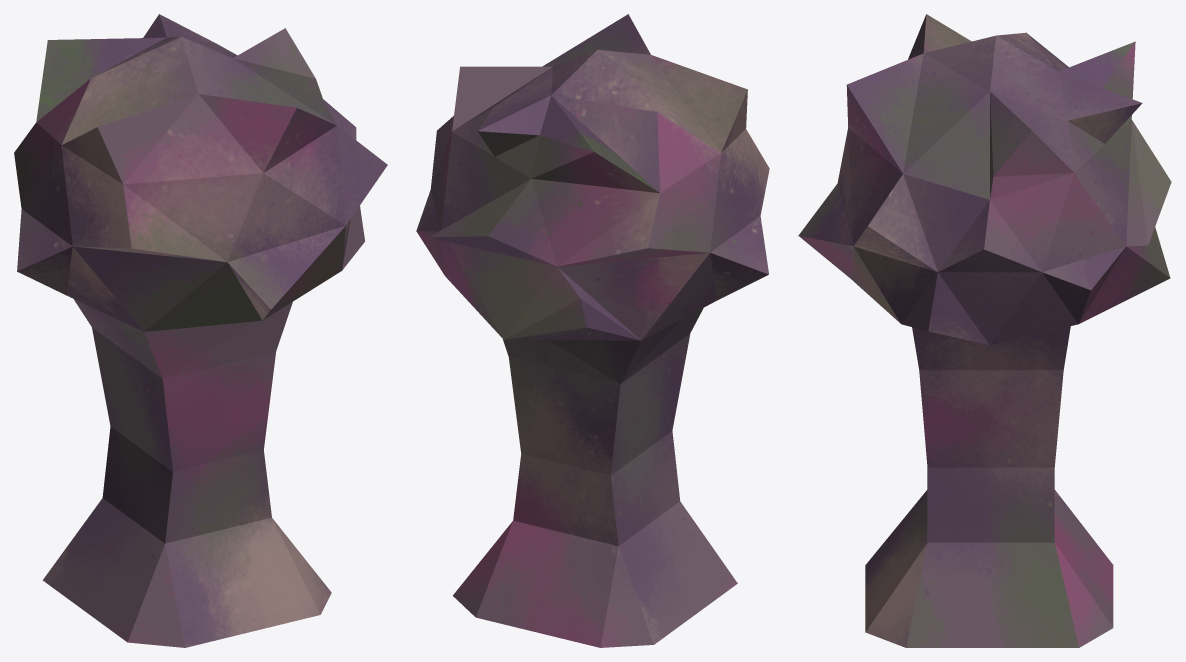
The model's file is gemGuyThree.glb.
3 renders of one model, left to right at view 1: azimuth 30°, elevation 25°; view 2: azimuth 150°, elevation 25°; view 3: azimuth 270°, elevation 25°, orthographic. The views are drawn at different scales.
Parts seen in each view (by area): view 1: Cube; view 2: Cube; view 3: Cube.
Part boxes in pixels (bbox=[...]): Cube: bbox=[14, 14, 387, 647]; Cube: bbox=[416, 14, 769, 647]; Cube: bbox=[798, 14, 1171, 647].
Size of the model in its own units: 4.36 by 6.78 by 4.1.
1 material, 1 textured.
